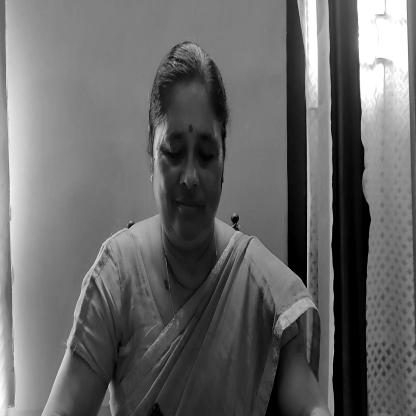Normal: (152, 56, 228, 254)
